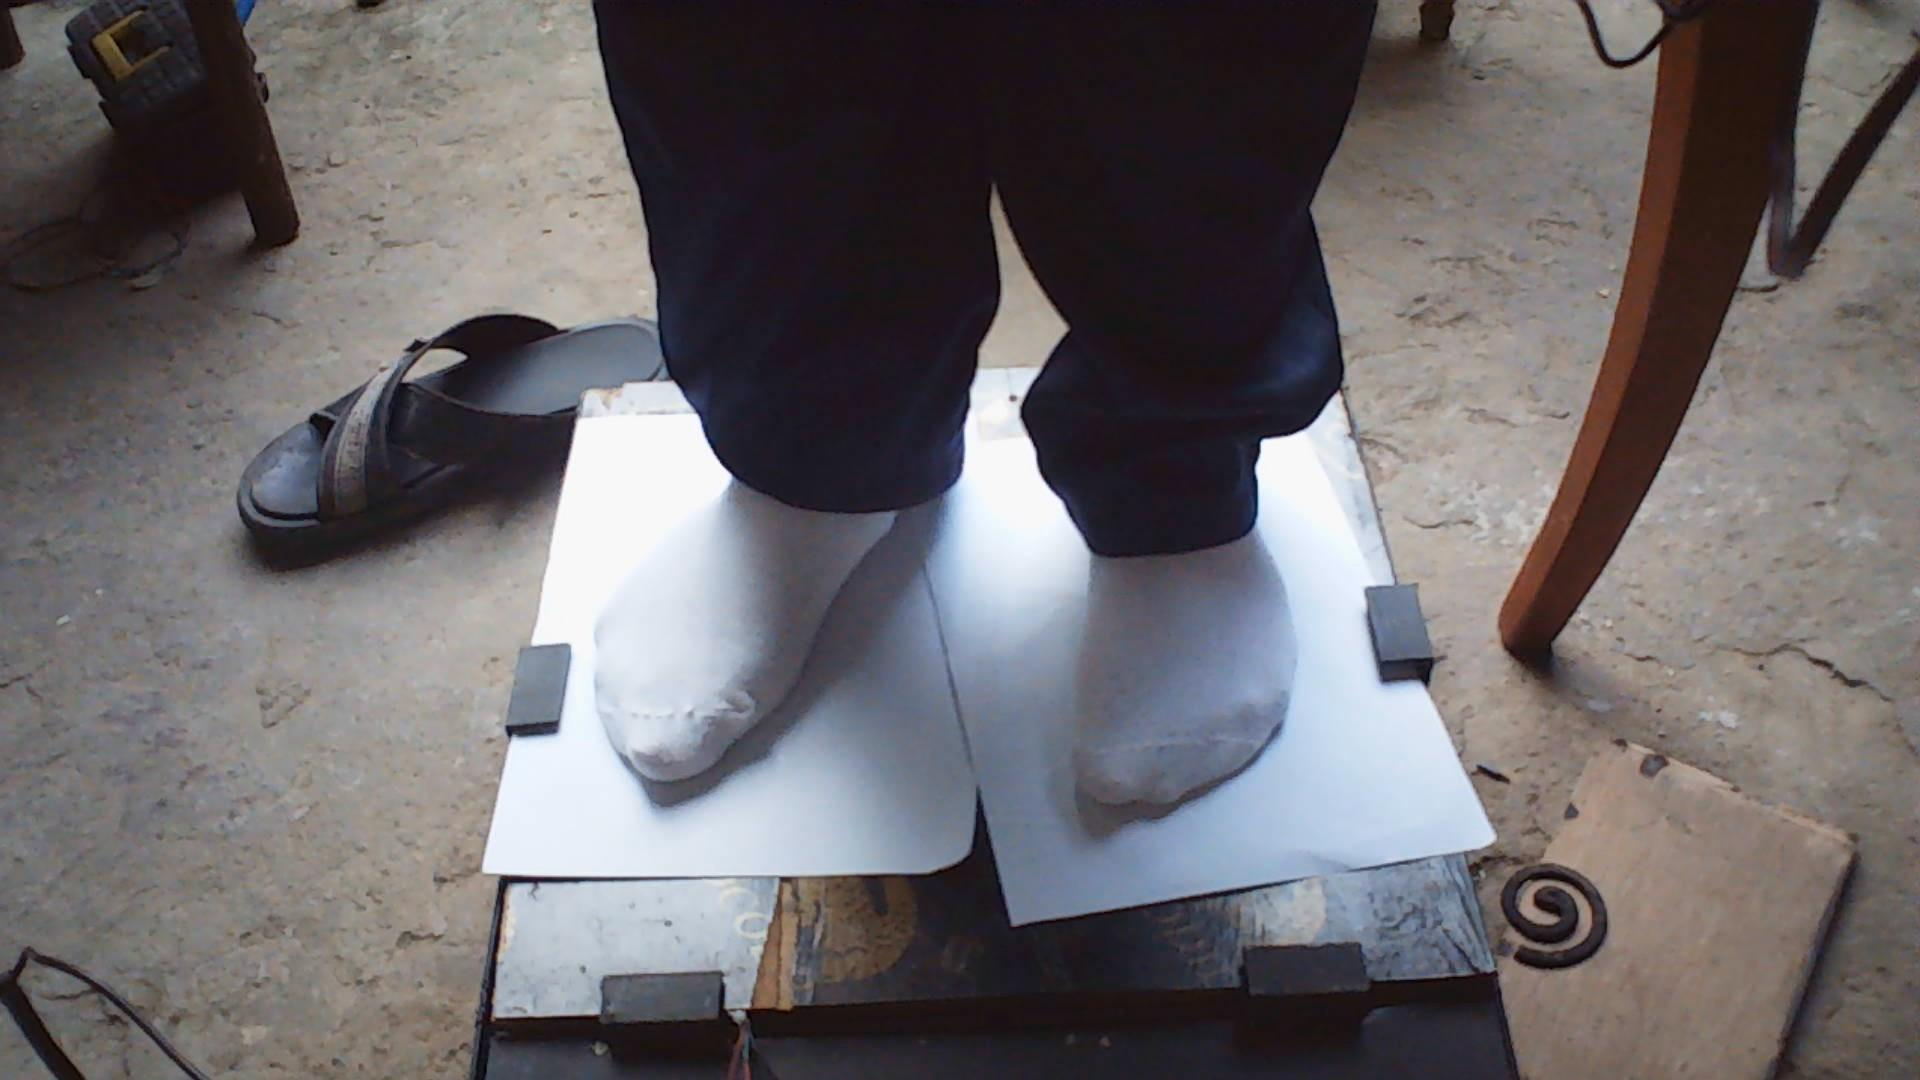white_socks: (595, 481, 897, 782)
